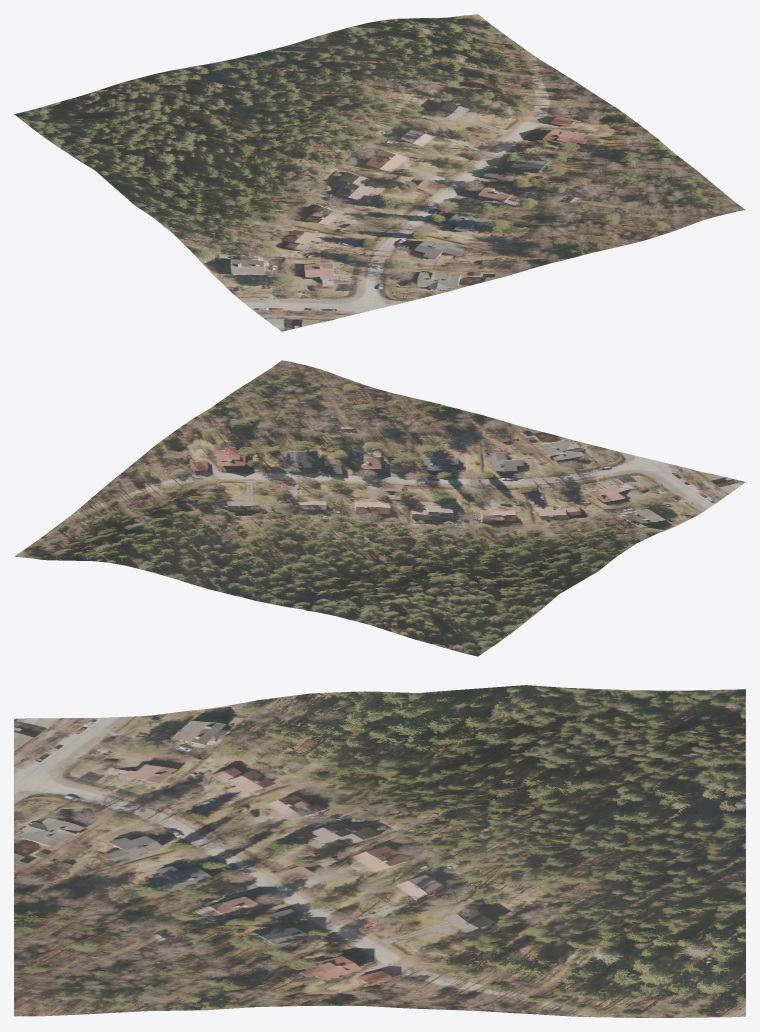
File: CM_Terrain_24489434_6822046.fbx
3 views of the same model, one above another, from view 1: azimuth 30°, elevation 25°; view 2: azimuth 150°, elevation 25°; view 3: azimuth 270°, elevation 25° (orthographic). The views are drawn at different scales.
Parts seen in each view (by area): view 1: CM_Terrain_24489434_6822046_LOD0; view 2: CM_Terrain_24489434_6822046_LOD0; view 3: CM_Terrain_24489434_6822046_LOD0.
Part boxes in pixels (left/top/right/bottom): CM_Terrain_24489434_6822046_LOD0: left=14, top=14, right=745, bottom=331; CM_Terrain_24489434_6822046_LOD0: left=14, top=360, right=745, bottom=656; CM_Terrain_24489434_6822046_LOD0: left=14, top=685, right=745, bottom=1017.
Size of what is drawn, in the model's own units: 205 by 12.53 by 205.
